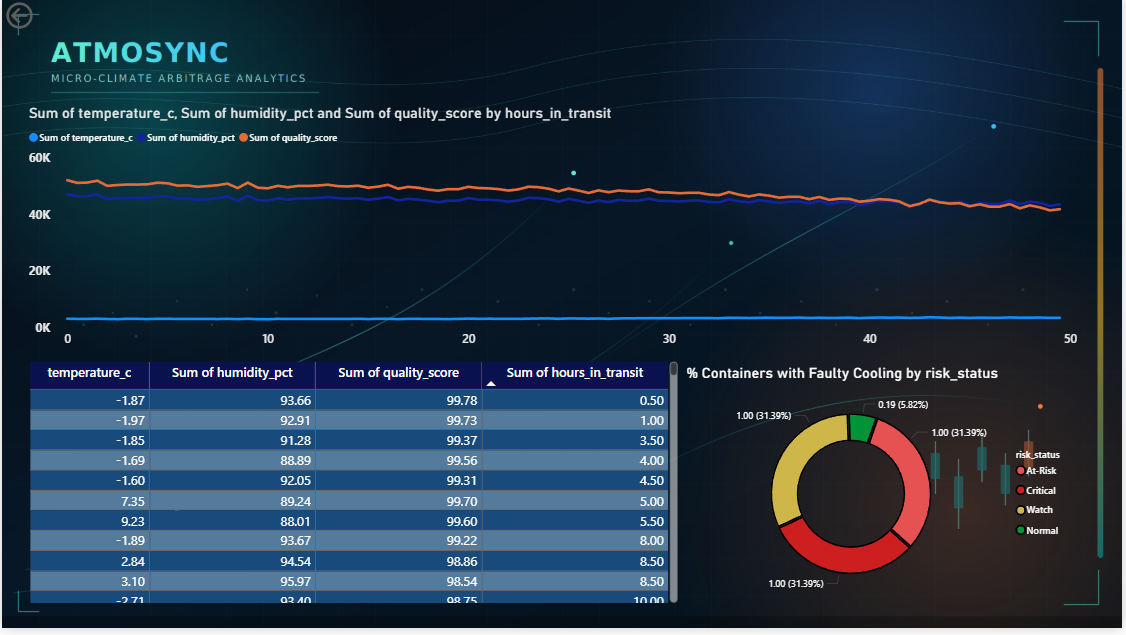

The dashboard page shown, as its layout file describes it:
{"tool":"powerbi","page":{"name":"Container Detail","canvas":[1280,720],"ordinal":4},"visuals":[{"type":"tableEx","fields":{"Values":["cleaned_dataset.temperature_c","Sum(cleaned_dataset.humidity_pct)","Sum(cleaned_dataset.quality_score)","Sum(cleaned_dataset.hours_in_transit)"]},"box":[25.7,408.6,751.4,287.1],"z":0},{"type":"lineChart","fields":{"Category":["cleaned_dataset.hours_in_transit"],"Y":["Sum(cleaned_dataset.temperature_c)","Sum(cleaned_dataset.humidity_pct)","Sum(cleaned_dataset.quality_score)"]},"box":[25.7,121.4,1210,287.1],"z":1000},{"type":"pieChart","fields":{"Category":["cleaned_dataset.risk_status"],"Y":["cleaned_dataset.% Containers with Faulty Cooling"]},"box":[777.1,418.6,458.6,277.1],"z":2000},{"type":"actionButton","box":[1216.1,27.6,34.5,31],"z":3000}]}

Visuals, with their boxes in screenshot pixels (x1, y1, x2, y2), scaled from the page's 1280x720 canvas onto the 1126x635 screenshot:
tableEx - cleaned_dataset.temperature_c x Sum(cleaned_dataset.humidity_pct): <bbox>23, 360, 684, 614</bbox>
lineChart - cleaned_dataset.hours_in_transit x Sum(cleaned_dataset.temperature_c): <bbox>23, 107, 1087, 360</bbox>
pieChart - cleaned_dataset.risk_status x cleaned_dataset.% Containers with Faulty Cooling: <bbox>684, 369, 1087, 614</bbox>
actionButton: <bbox>1070, 24, 1100, 52</bbox>
